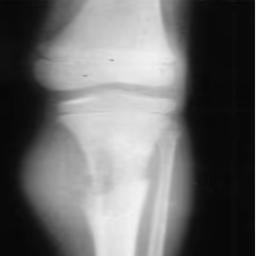cancer: (42, 127, 133, 227)
